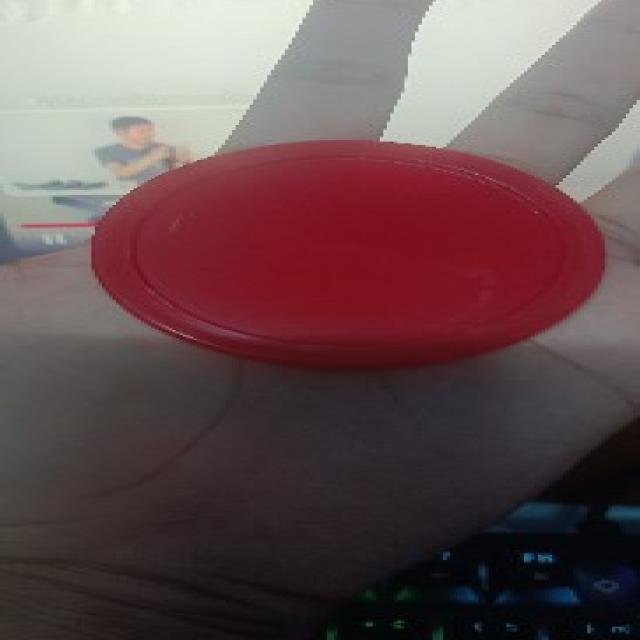chip: (88, 140, 605, 367)
